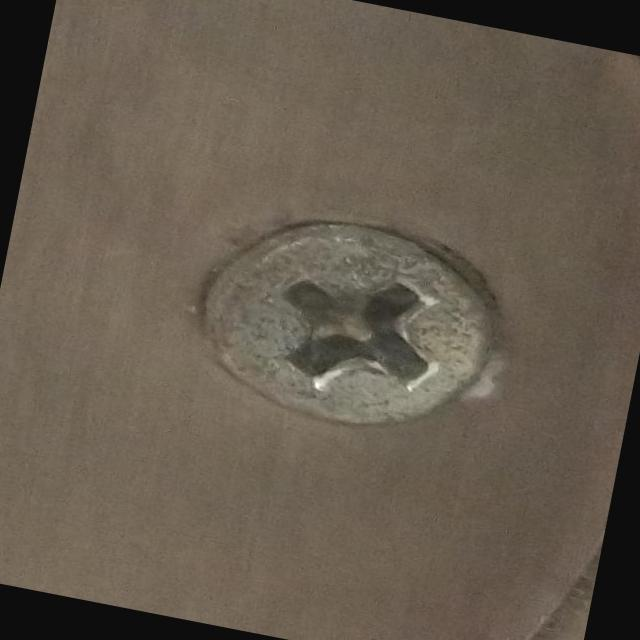Phillips: (236, 211, 500, 442)
